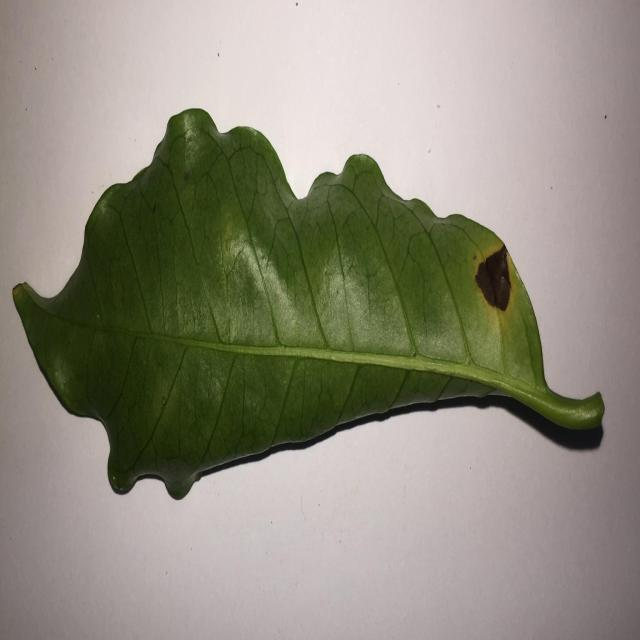Enfermedad-Mancha-de-hierro: (10, 109, 605, 502)
